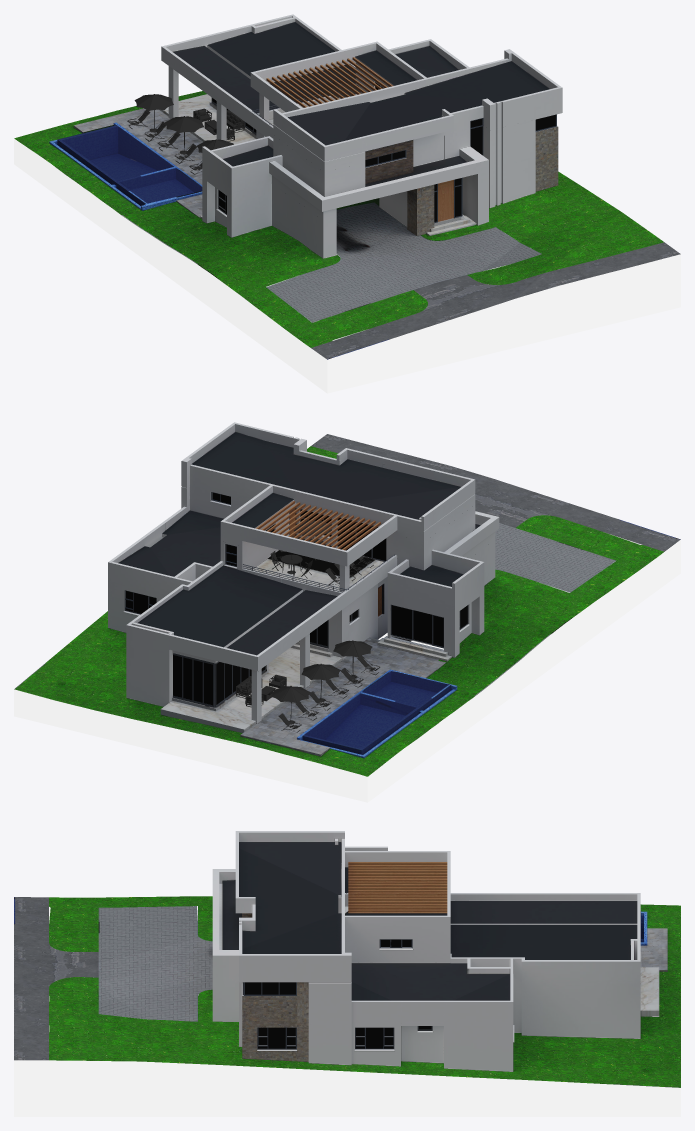
Rendered from house opt-1 simple.glb.
The picture shows the model from 3 angles, top to bottom: view 1: azimuth 30°, elevation 25°; view 2: azimuth 150°, elevation 25°; view 3: azimuth 270°, elevation 25°; orthographic projection. The views are drawn at different scales.
Visible parts, largest first — view 1: site.green.001, Base.001, main Driveway.001, simple Plaster_1.004, simple Plaster_1.005, simple Roofing - Sheets.003, simple Roofing - Sheets.002, main Road.001, main Pool.001, simple Plaster_1.003, water.002, simple Plaster_2.003 (+12 smaller); view 2: site.green.001, Base.001, simple Plaster_1.004, simple Roofing - Sheets.002, simple Plaster_1.005, simple Roofing - Sheets.003, simple Plaster_1.003, main Pool.001, main Road.001, main Paving.002, water.002, simple Glass.003 (+12 smaller); view 3: Base.001, site.green.001, simple Roofing - Sheets.002, simple Plaster_1.003, simple Plaster_1.004, main Driveway.001, simple Roofing - Sheets.003, simple Plaster_1.005, main Road.001, simple Wood.010, simple Plaster_3.005, simple Plaster_3.004 (+7 smaller).
Part boxes in pixels (left/top/right/bottom): site.green.001: left=14, top=91, right=663, bottom=347; Base.001: left=14, top=138, right=680, bottom=393; main Driveway.001: left=266, top=202, right=541, bottom=322; simple Plaster_1.004: left=161, top=14, right=561, bottom=211; simple Plaster_1.005: left=250, top=41, right=562, bottom=172; simple Roofing - Sheets.003: left=288, top=50, right=549, bottom=145; simple Roofing - Sheets.002: left=173, top=22, right=466, bottom=195; main Road.001: left=311, top=242, right=680, bottom=359; main Pool.001: left=49, top=122, right=202, bottom=210; simple Plaster_1.003: left=202, top=130, right=535, bottom=237; water.002: left=57, top=125, right=202, bottom=205; simple Plaster_2.003: left=168, top=67, right=463, bottom=258; site.green.001: left=14, top=446, right=663, bottom=776; Base.001: left=14, top=534, right=680, bottom=802; simple Plaster_1.004: left=108, top=485, right=499, bottom=670; simple Roofing - Sheets.002: left=118, top=510, right=480, bottom=655; simple Plaster_1.005: left=181, top=422, right=475, bottom=568; simple Roofing - Sheets.003: left=191, top=432, right=460, bottom=528; simple Plaster_1.003: left=108, top=581, right=484, bottom=716; main Pool.001: left=297, top=669, right=457, bottom=758; main Road.001: left=311, top=434, right=680, bottom=551; main Paving.002: left=240, top=637, right=445, bottom=756; water.002: left=302, top=671, right=450, bottom=754; simple Glass.003: left=125, top=591, right=467, bottom=705; Base.001: left=14, top=906, right=680, bottom=1116; site.green.001: left=49, top=896, right=680, bottom=1087; simple Roofing - Sheets.002: left=222, top=867, right=637, bottom=1000; simple Plaster_1.003: left=212, top=979, right=640, bottom=1079; simple Plaster_1.004: left=212, top=846, right=640, bottom=1023; main Driveway.001: left=98, top=906, right=212, bottom=1021; simple Roofing - Sheets.003: left=239, top=842, right=447, bottom=953; simple Plaster_1.005: left=235, top=831, right=450, bottom=982; main Road.001: left=14, top=897, right=98, bottom=1060; simple Wood.010: left=348, top=862, right=447, bottom=913; simple Plaster_3.005: left=242, top=982, right=308, bottom=1022; simple Plaster_3.004: left=242, top=1022, right=308, bottom=1061.
Size of the model in its own units: 26.31 by 10.33 by 40.36.
10 materials, 6 textured.
